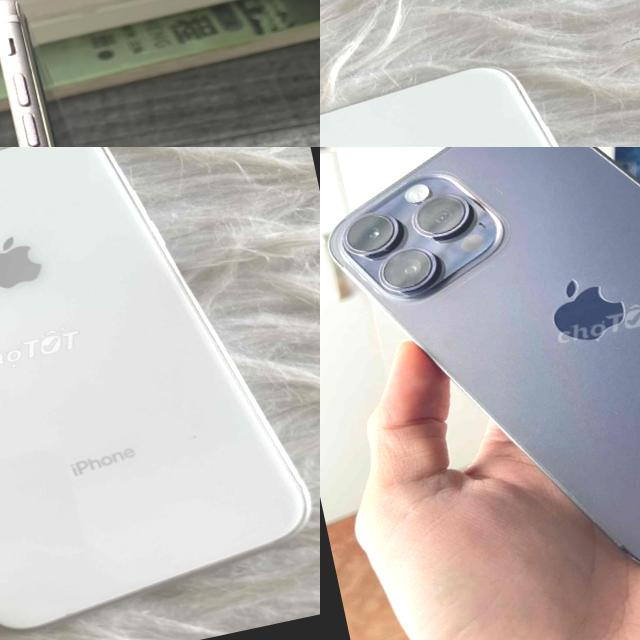gen_14: (320, 147, 640, 618)
gen_7_8: (0, 0, 153, 147)
gen_x_xs: (0, 147, 307, 628), (320, 67, 558, 147)
